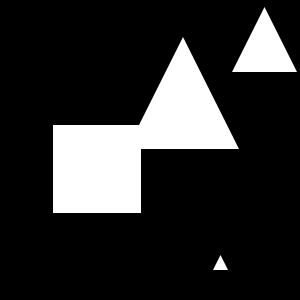circle: (53, 125, 141, 213)
triangle: (127, 37, 239, 149), (232, 7, 297, 72), (213, 255, 228, 270)
